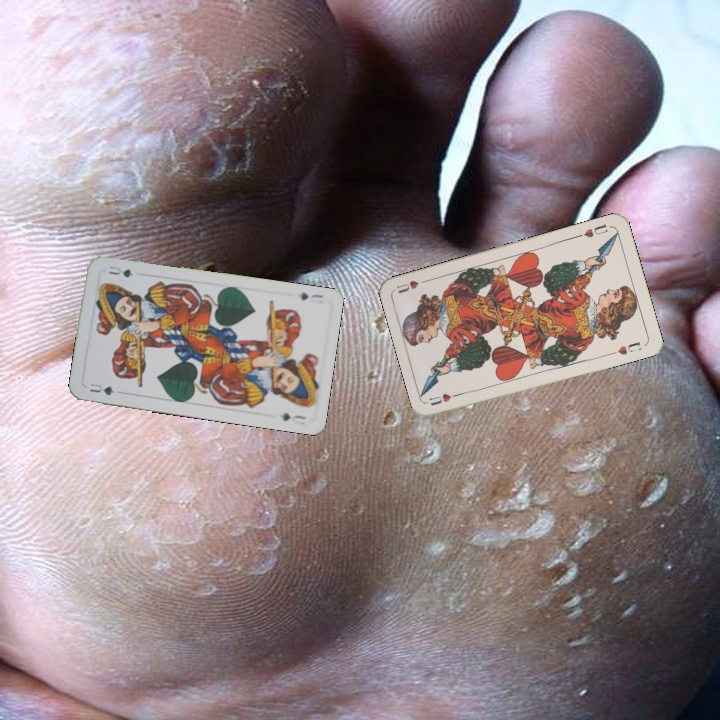GU: (85, 378, 117, 398), (296, 288, 327, 306)
HU: (425, 388, 465, 408), (574, 220, 610, 240)
